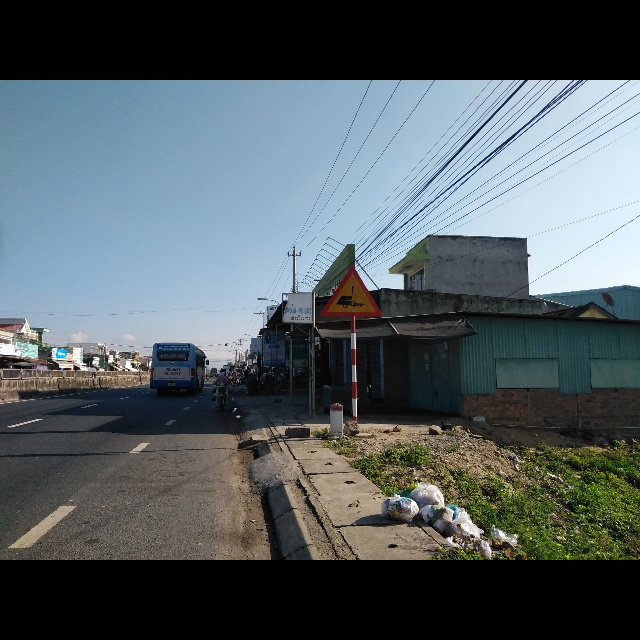Đoạn đường hay xảy ra tai nạn: (320, 264, 385, 319)
